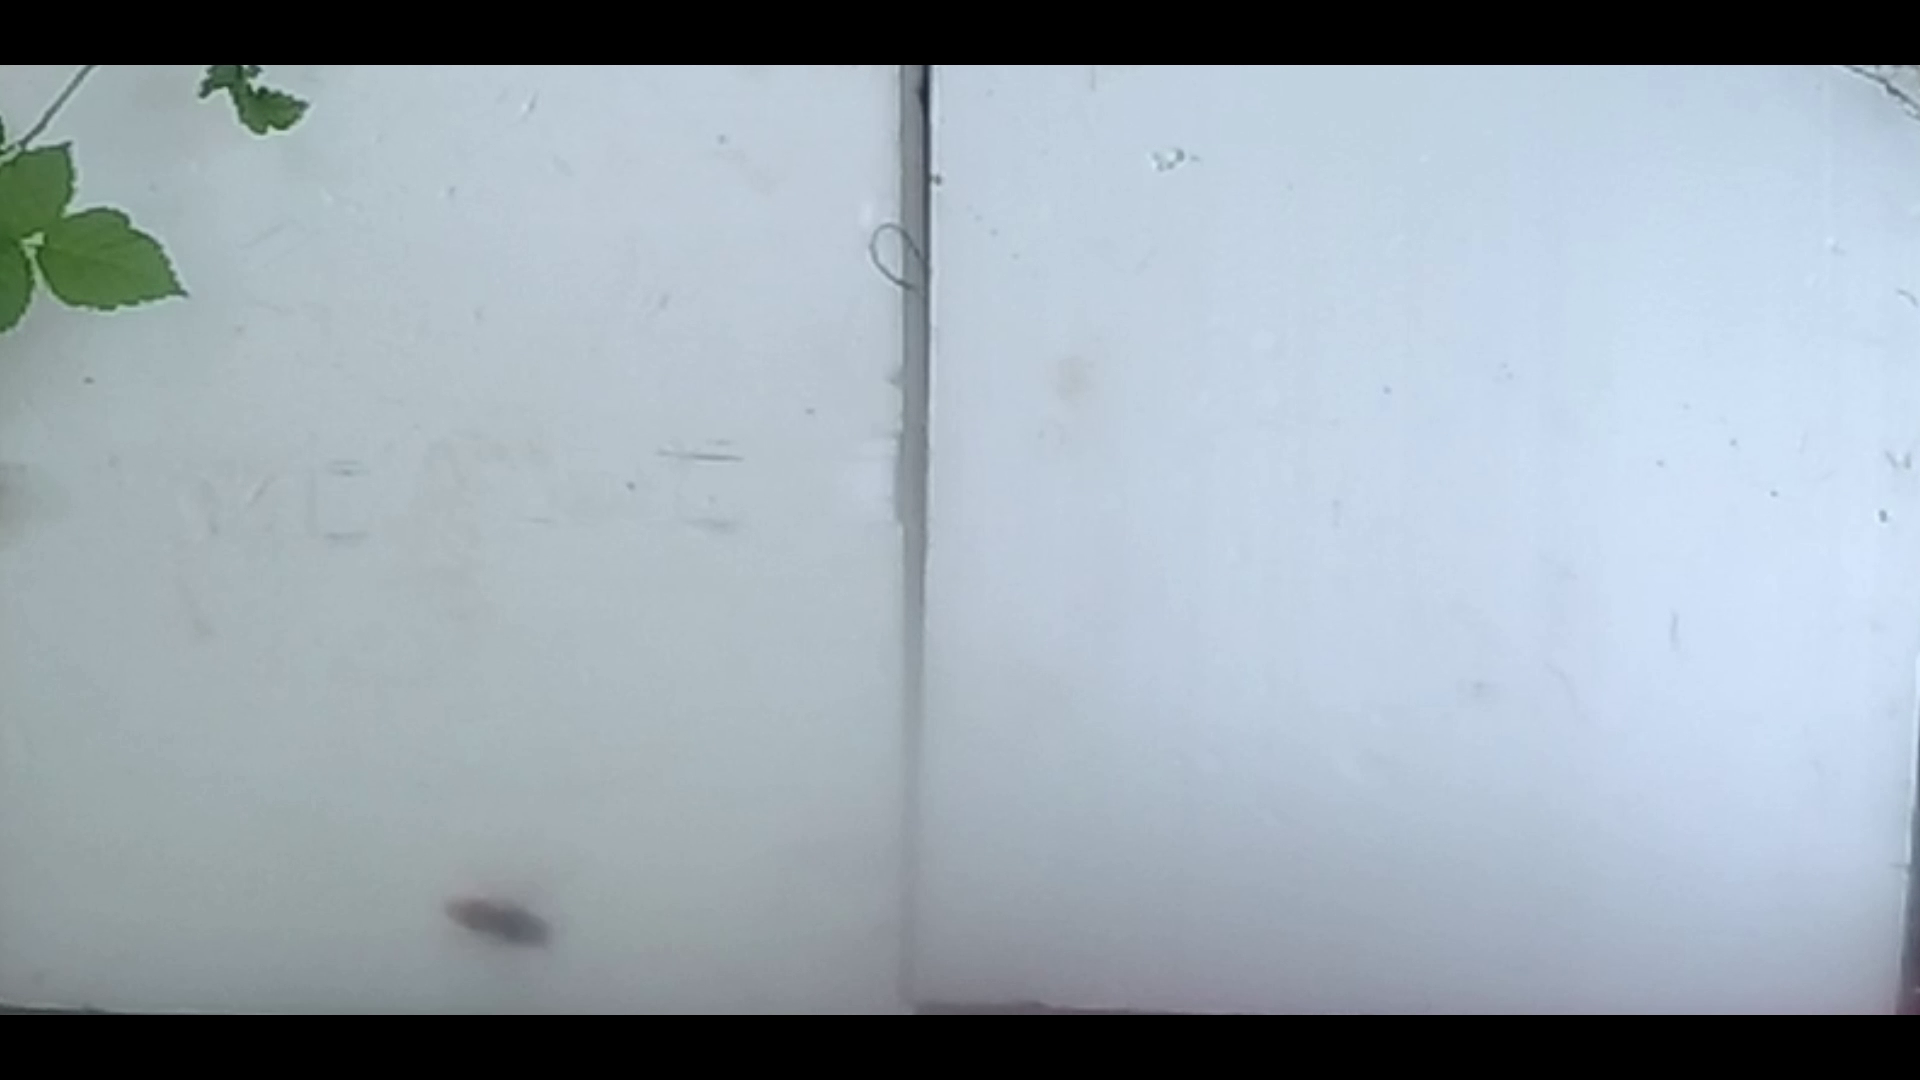Asian_hornets: (427, 856, 582, 978)
